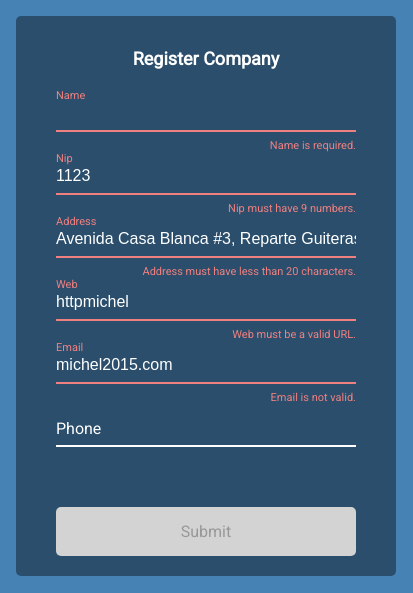
Test: Testing Form Company › Phone input should be a valid phone number
Type "555-555-555" into the field with test id "phone-input".
click(206, 426); type("555-555-555")  # box [56, 404, 356, 447]
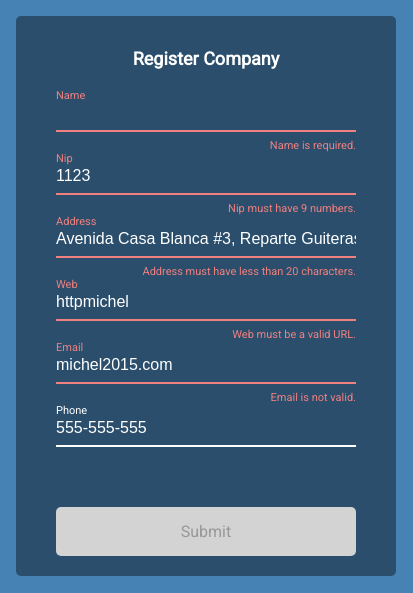
Leave the field with test id "phone-input", box [56, 404, 356, 447]
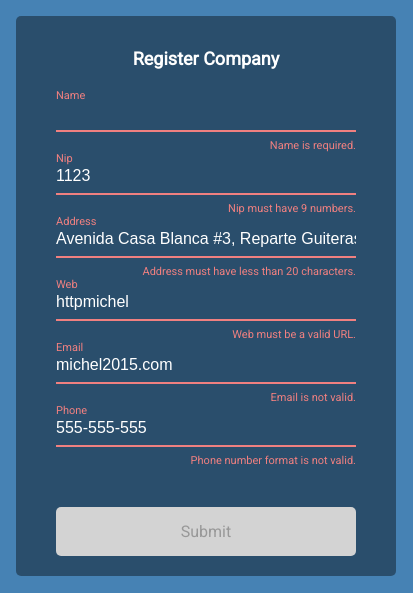
Expected: the text "Phone number format is not valid." is shown, [191, 454, 356, 467]
